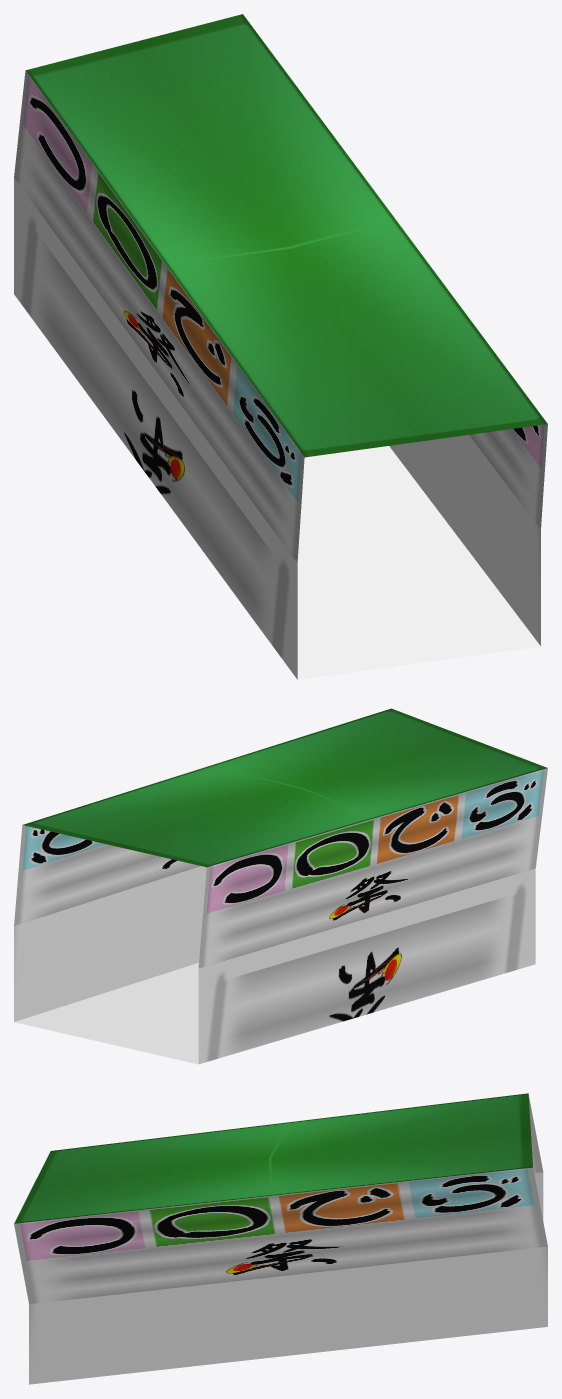
The model's file is CourseAki_Wall_L_6_21.fbx.
The picture shows the model from 3 angles, top to bottom: view 1: azimuth 30°, elevation 25°; view 2: azimuth 150°, elevation 25°; view 3: azimuth 270°, elevation 25°; orthographic projection. The views are drawn at different scales.
Visible parts, largest first — view 1: polySurface394; view 2: polySurface394; view 3: polySurface394.
Part boxes in pixels (<box>): polySurface394: <box>14,14,547,679</box>; polySurface394: <box>14,708,547,1064</box>; polySurface394: <box>14,1093,547,1384</box>.
Size of the model in its own units: 2.59 by 2.99 by 6.02.
1 material, 1 textured.
